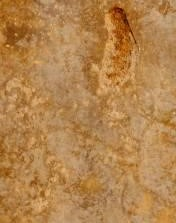Corrosion: (105, 8, 133, 80)
Spalling: (98, 5, 139, 89)
